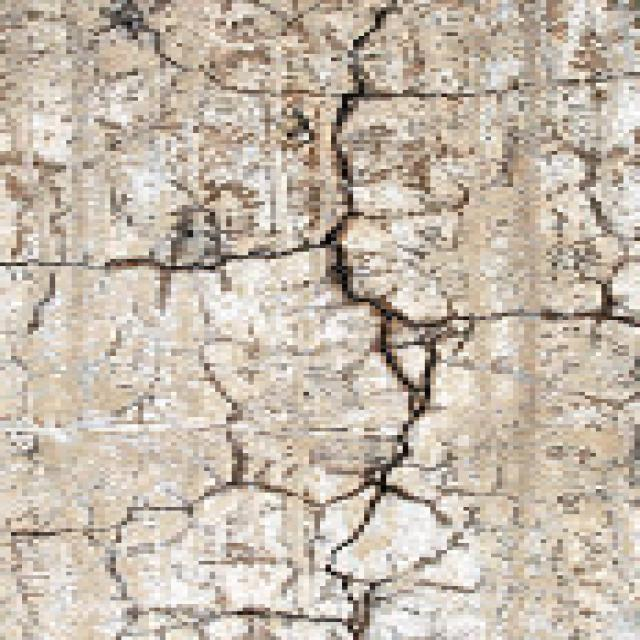branched cracks: (103, 0, 277, 96), (27, 271, 55, 333), (82, 507, 108, 546), (10, 525, 78, 537), (123, 604, 148, 625), (419, 550, 446, 563), (115, 630, 128, 639)
